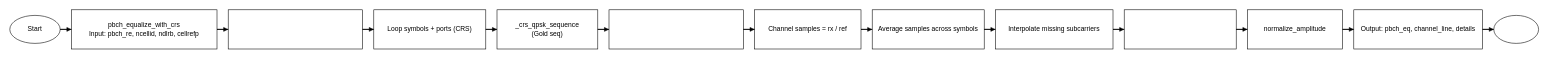
Some shapes in this 1548 by 59 pixel diagram are drawn without their labels. Each missing label, with the centre of its shape:
Compute abs_subcarriers and v_shift = ncellid % 6: [295,29]
End: [1516,29]
pbch_eq = pbch / channel_line: [1180,29]
Pick pilot REs by (k+v_shift) mod 6: [675,29]
